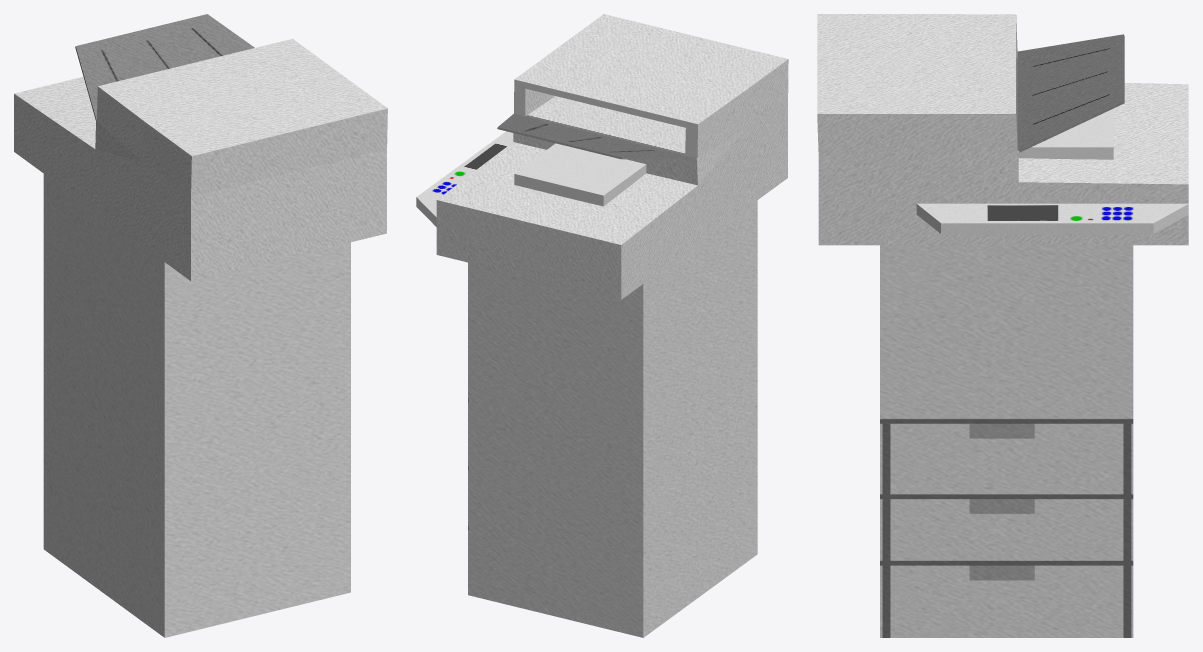
File: Printer.FBX
The picture shows the model from 3 angles, left to right: view 1: azimuth 30°, elevation 25°; view 2: azimuth 150°, elevation 25°; view 3: azimuth 270°, elevation 25°; orthographic projection. The views are drawn at different scales.
Visible parts, largest first — view 1: Printer01; view 2: Printer01; view 3: Printer01.
Part boxes in pixels (bbox=[...]): Printer01: bbox=[14, 14, 387, 637]; Printer01: bbox=[416, 14, 788, 637]; Printer01: bbox=[817, 14, 1188, 637].
Size of the model in its own units: 16.72 by 34.4 by 21.96.
Materials: 1 (1 with a texture image).
